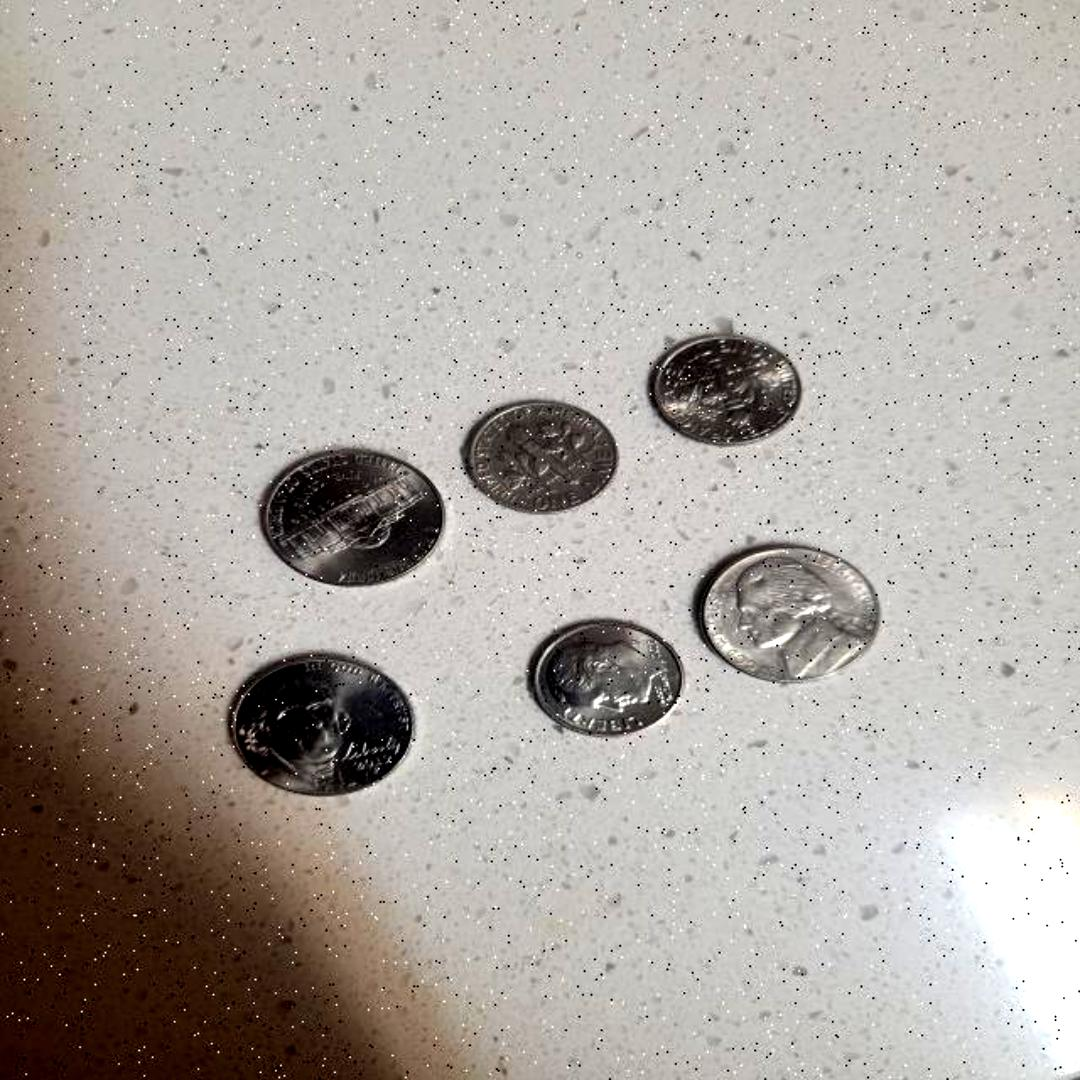Dime: (524, 612, 690, 742), (644, 328, 808, 452), (462, 399, 620, 517)
Nickel: (220, 647, 424, 803), (688, 541, 887, 687), (256, 446, 452, 590)
